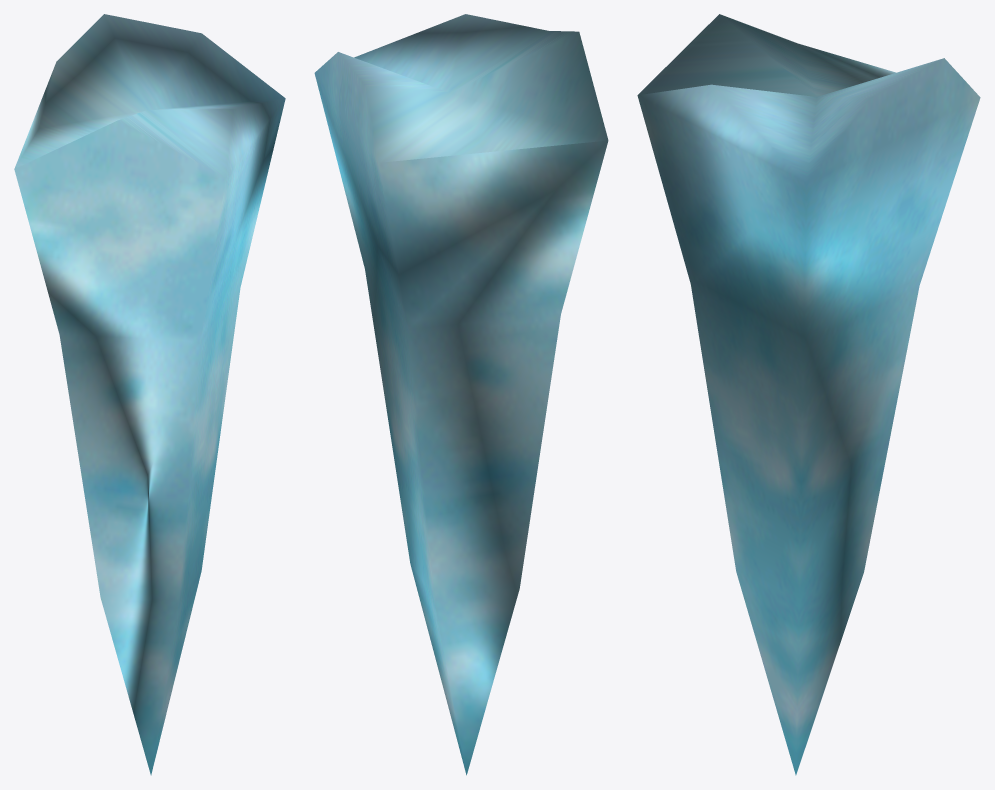
File: hseb.hrc.gltf
The picture shows the model from 3 angles, left to right: view 1: azimuth 30°, elevation 25°; view 2: azimuth 150°, elevation 25°; view 3: azimuth 270°, elevation 25°; orthographic projection. The views are drawn at different scales.
Parts seen in each view (by area): view 1: hsebBone0_null; view 2: hsebBone0_null; view 3: hsebBone0_null.
Boxes of the visible parts, x1,y1,x2,y2 form: hsebBone0_null: (14, 14, 285, 775); hsebBone0_null: (314, 14, 608, 775); hsebBone0_null: (637, 14, 980, 775).
Bounding box in the file's own units: 14.93 × 36.38 × 15.49.
1 material, 1 textured.
